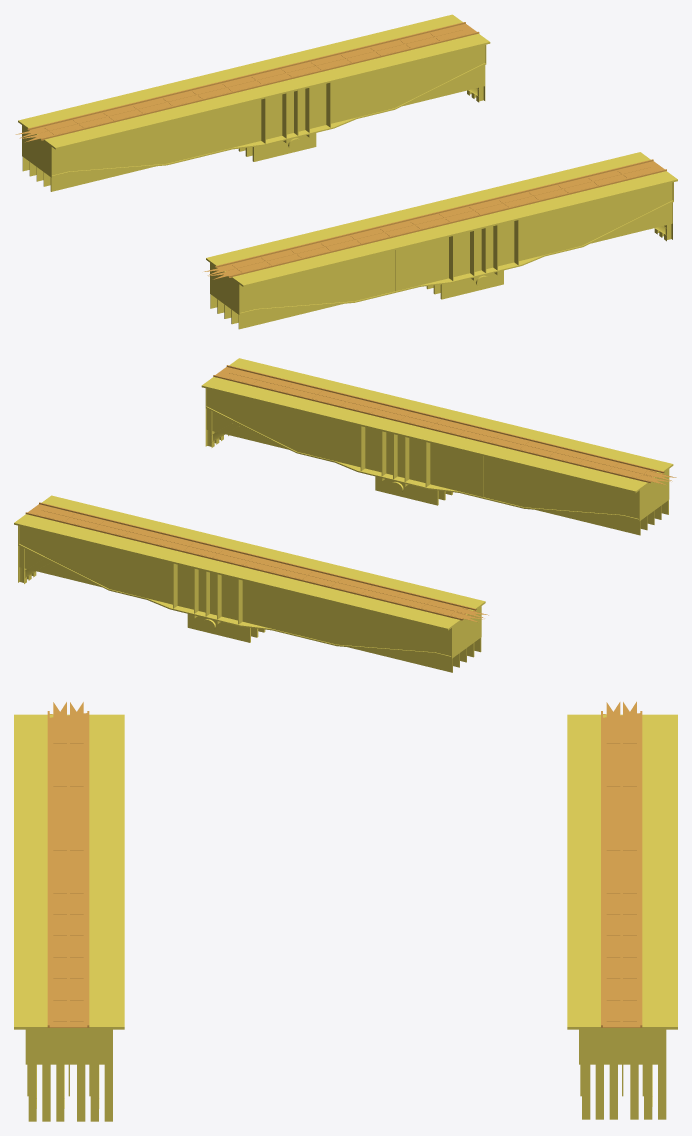
File: rocker.glb
The picture shows the model from 3 angles, top to bottom: view 1: azimuth 30°, elevation 25°; view 2: azimuth 150°, elevation 25°; view 3: azimuth 270°, elevation 25°; orthographic projection. The views are drawn at different scales.
Visible parts, largest first — view 1: rocker; view 2: rocker; view 3: rocker.
Boxes of the visible parts, left/top/right/bottom form: rocker: left=15, top=14, right=677, bottom=329; rocker: left=14, top=358, right=676, bottom=672; rocker: left=14, top=701, right=677, bottom=1121.
Size of the model in its own units: 27.86 by 3.99 by 24.
